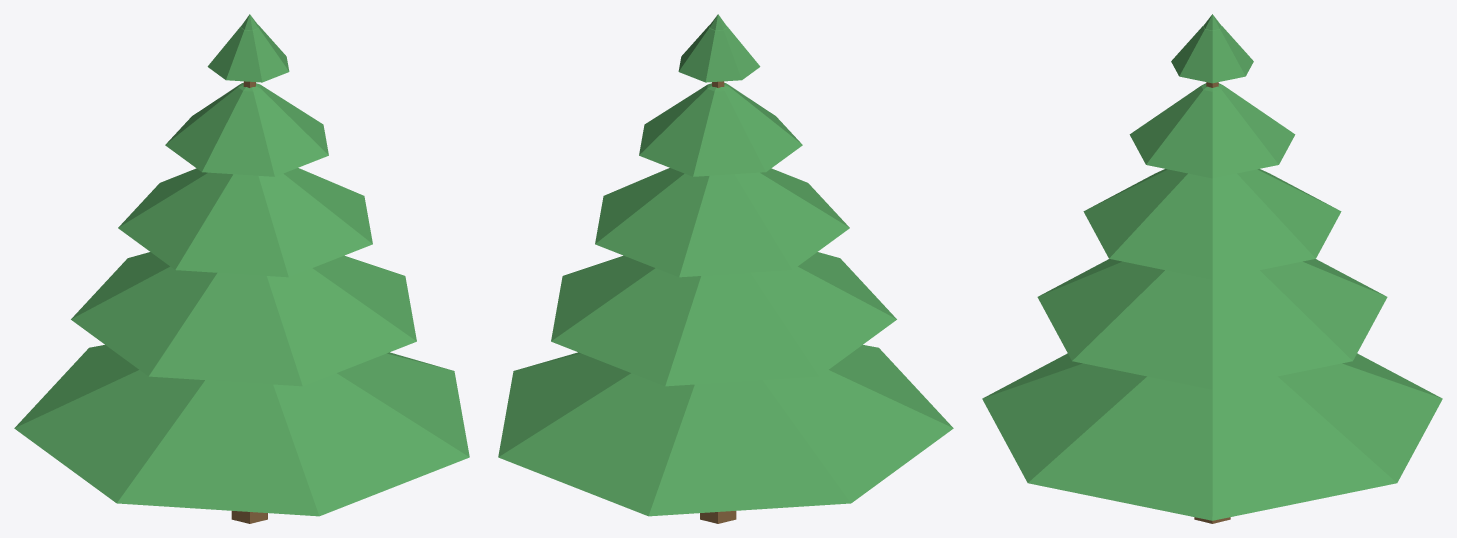
The model's file is PineTree.fbx.
The picture shows the model from 3 angles, left to right: view 1: azimuth 30°, elevation 25°; view 2: azimuth 150°, elevation 25°; view 3: azimuth 270°, elevation 25°; orthographic projection.
Visible parts, largest first — view 1: PineTree_PineFoliageMat; view 2: PineTree_PineFoliageMat; view 3: PineTree_PineFoliageMat.
Boxes of the visible parts, box(x1,y1,x2,y2) form: PineTree_PineFoliageMat: box(14, 14, 469, 516); PineTree_PineFoliageMat: box(498, 14, 953, 516); PineTree_PineFoliageMat: box(982, 14, 1442, 520).
Size of the model in its own units: 778 by 957 by 798.
